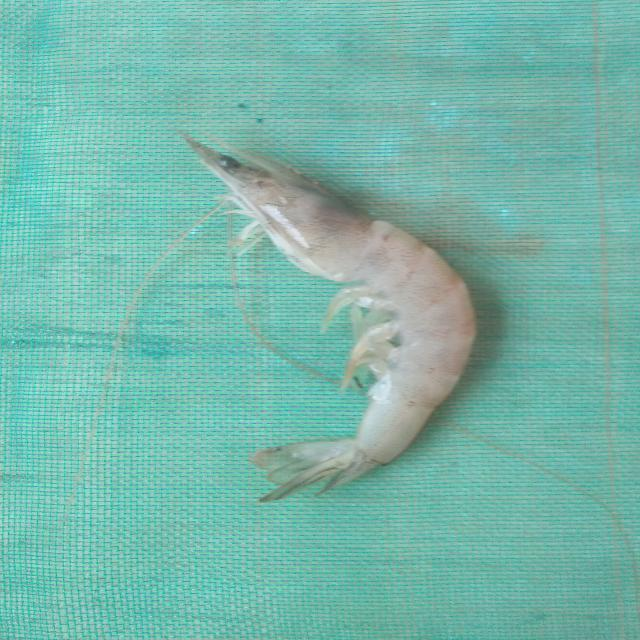shrimp: (184, 135, 476, 502)
